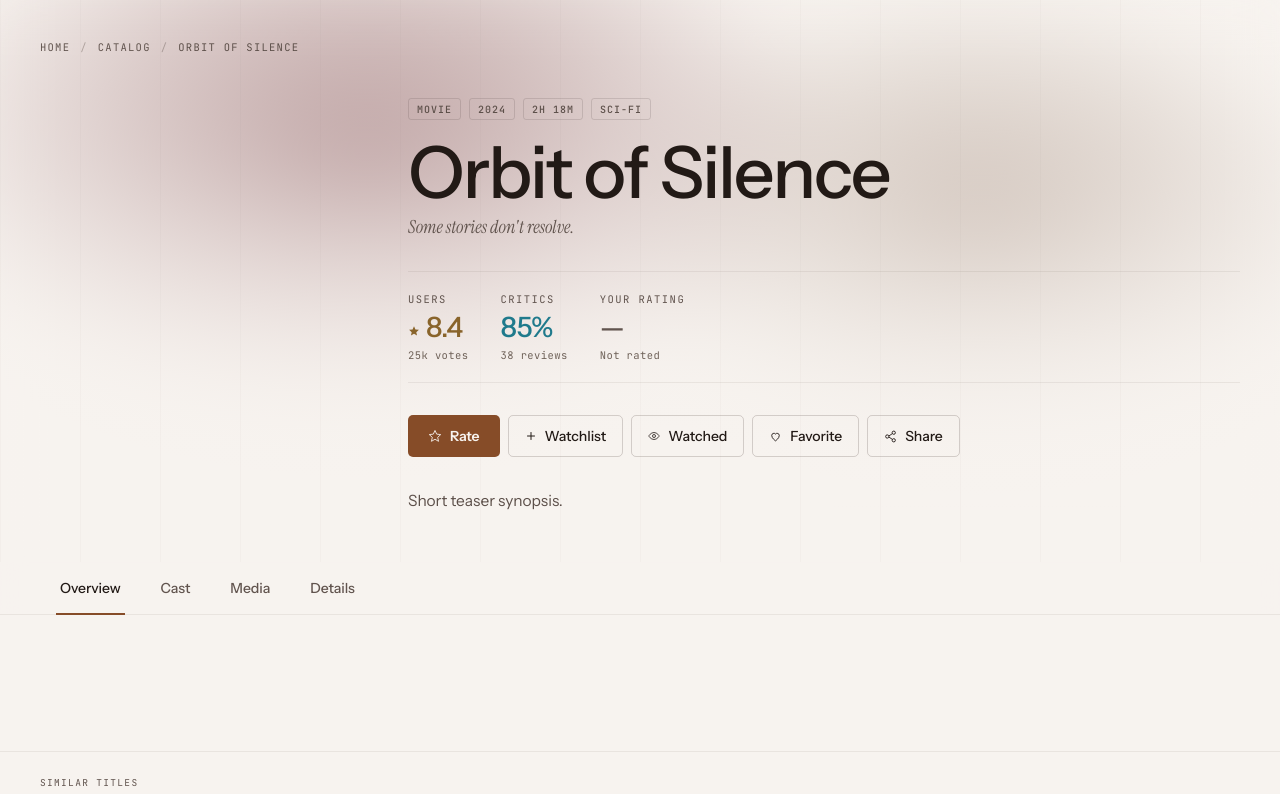
Test: Movie — Cast › показывает имя/роль каждого cast-члена
Click the button "Cast". click: (175, 588)
box: left=141, top=562, right=210, bottom=614
(page scrolled)
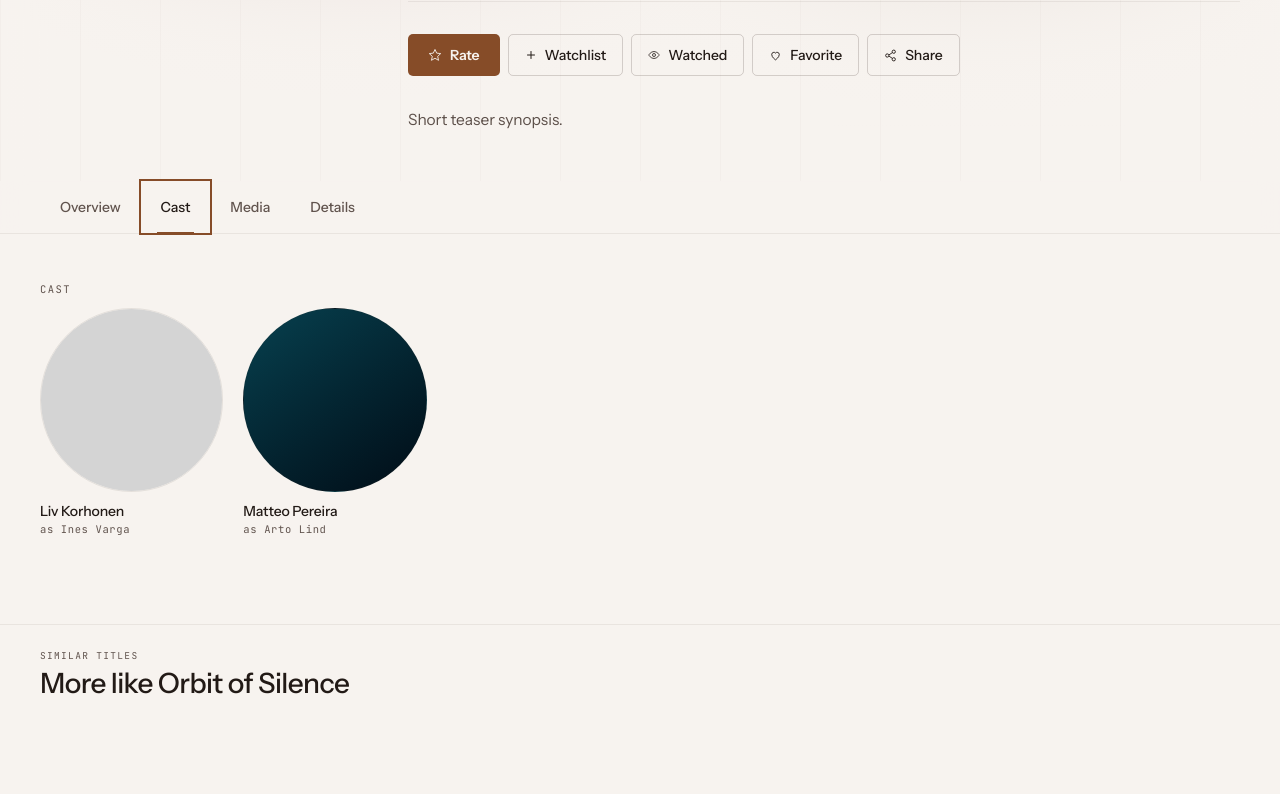
Result: the text "Liv Korhonen" is shown at left=40, top=502, right=124, bottom=520
Result: the text "as Ines Varga" is shown at left=40, top=522, right=130, bottom=536
Result: the text "Matteo Pereira" is shown at left=243, top=502, right=338, bottom=520
